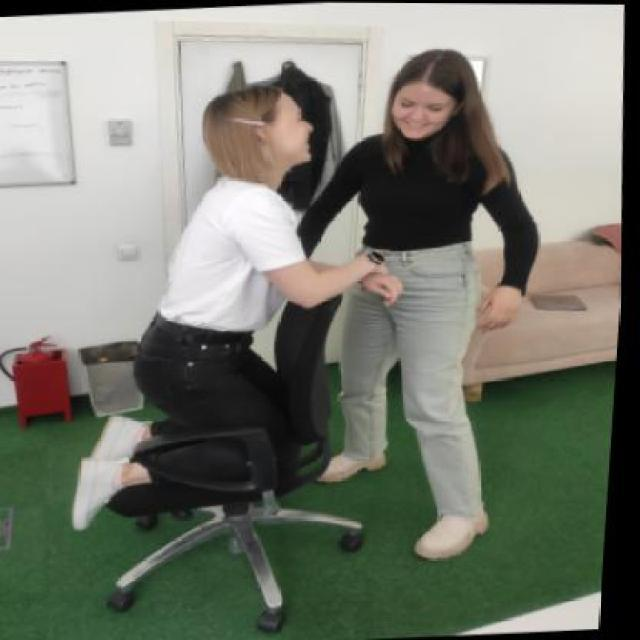chair: (86, 254, 402, 638)
